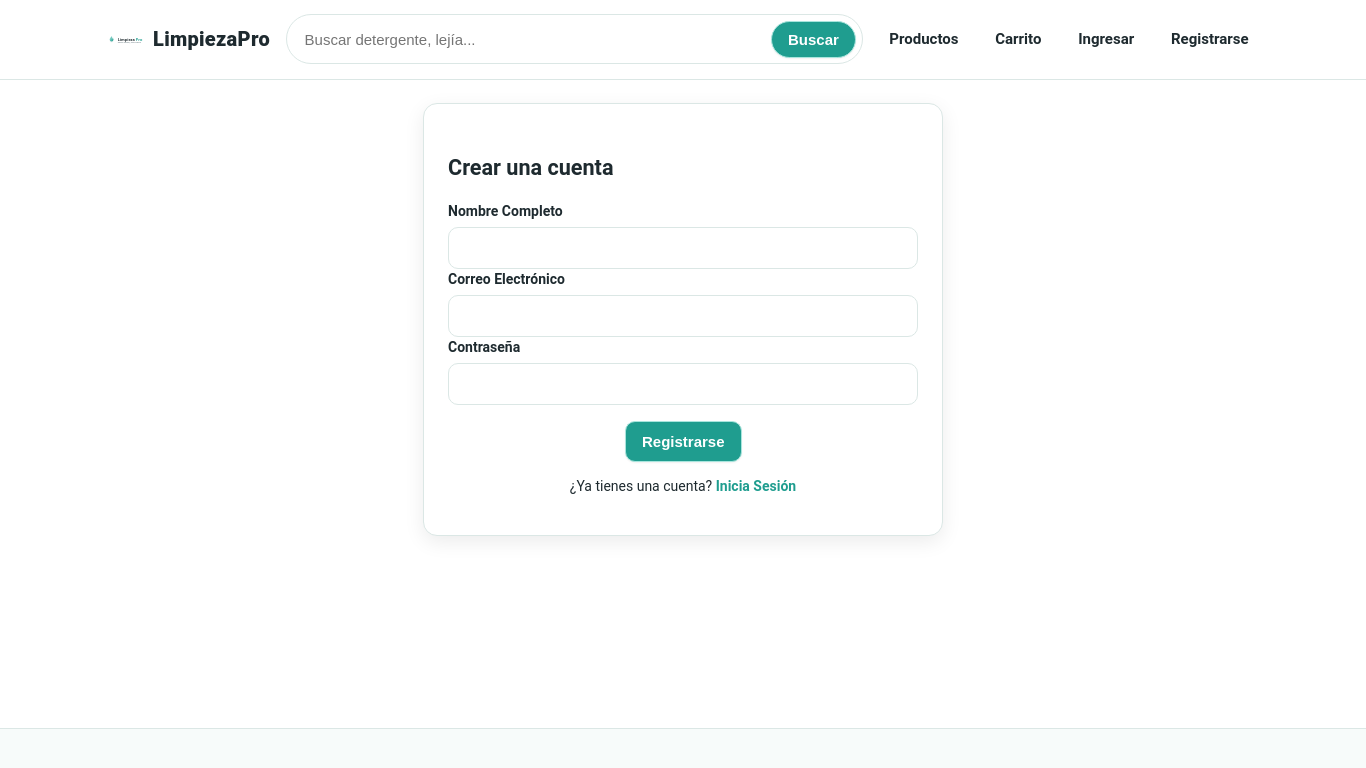
Scenario: Registro de clientes › muestra error si la contraseña es corta
This screenshot has width=1366, height=768.
Type "Juan Pérez" into the field with id "nombre".
click(683, 248); type("Juan Pérez")  # box [448,227,918,268]
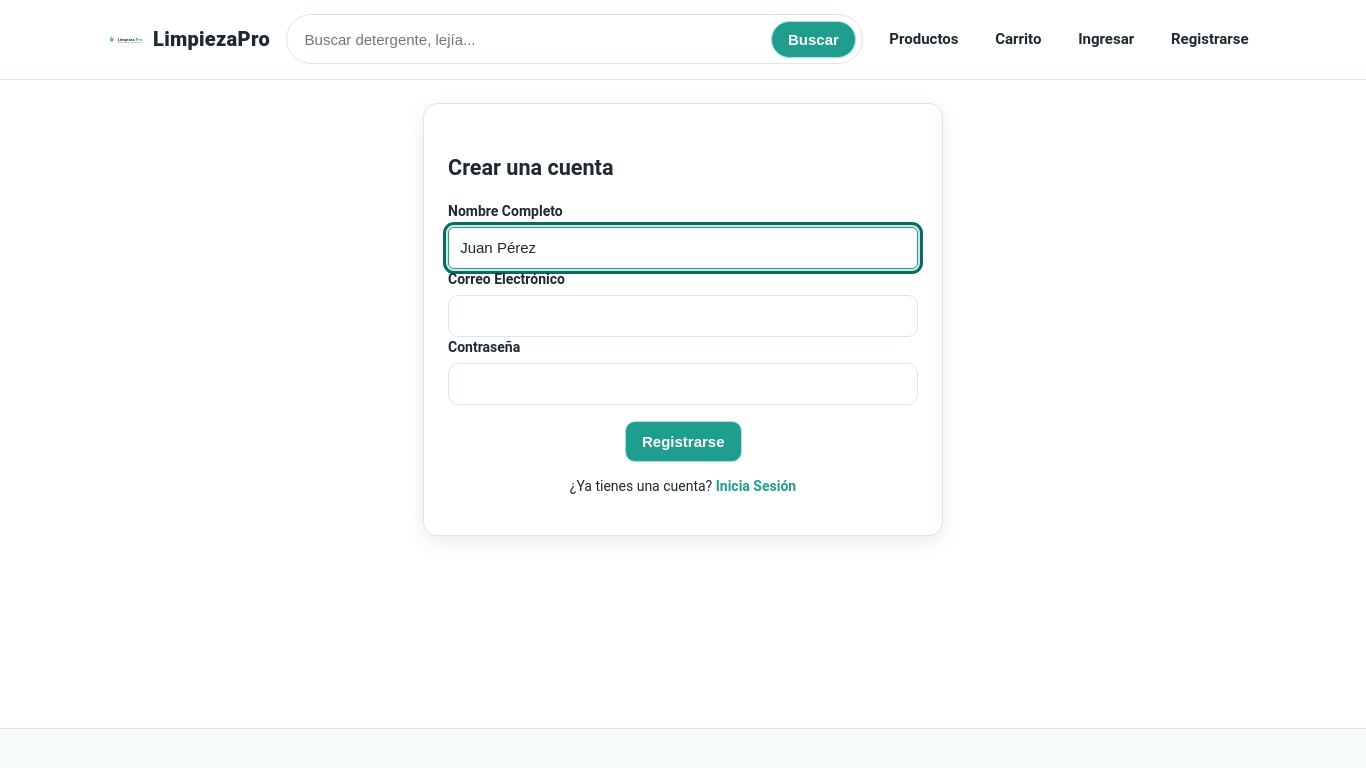
Type "juan@example.com" into the field with id "email".
click(683, 316); type("juan@example.com")  # box [448,295,918,336]
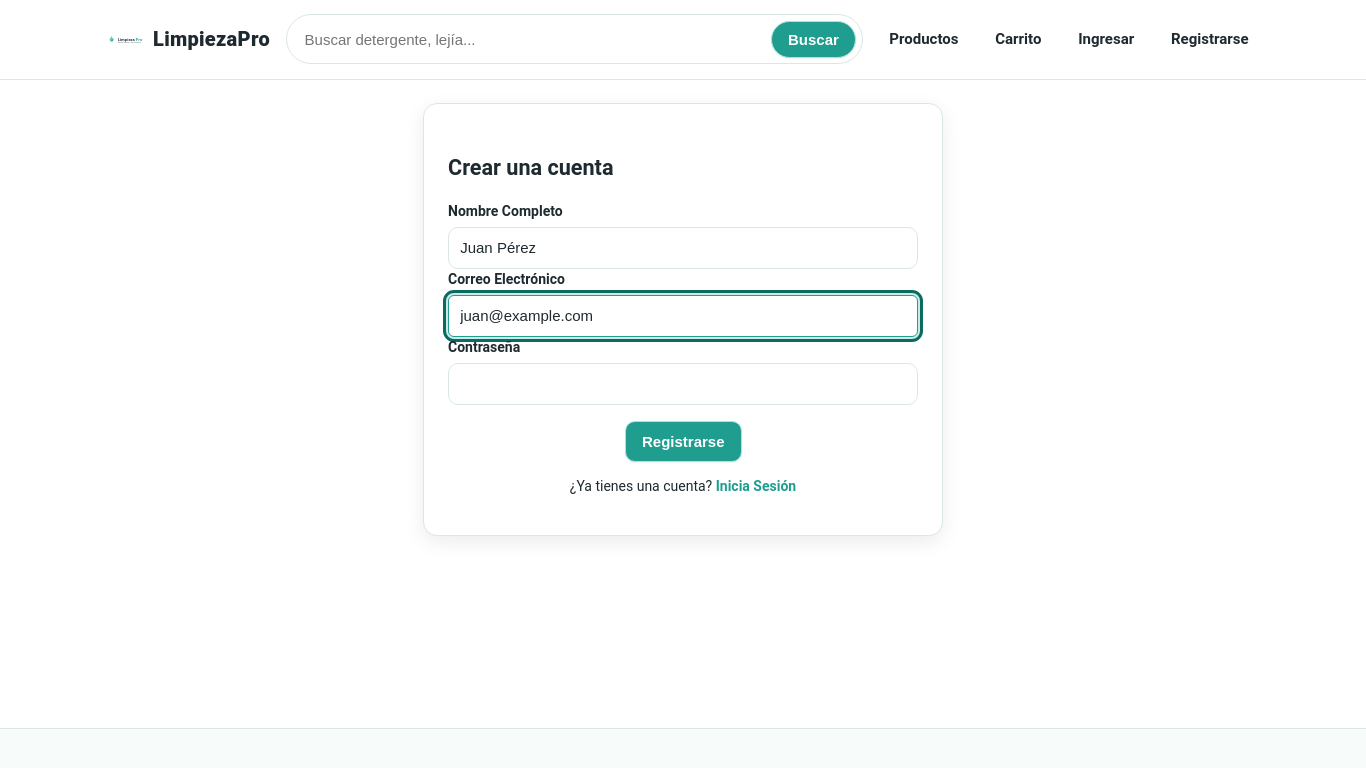
Type "abc" into the password field labelled "Contraseña".
click(683, 384); type("abc")  # box [448,363,918,404]
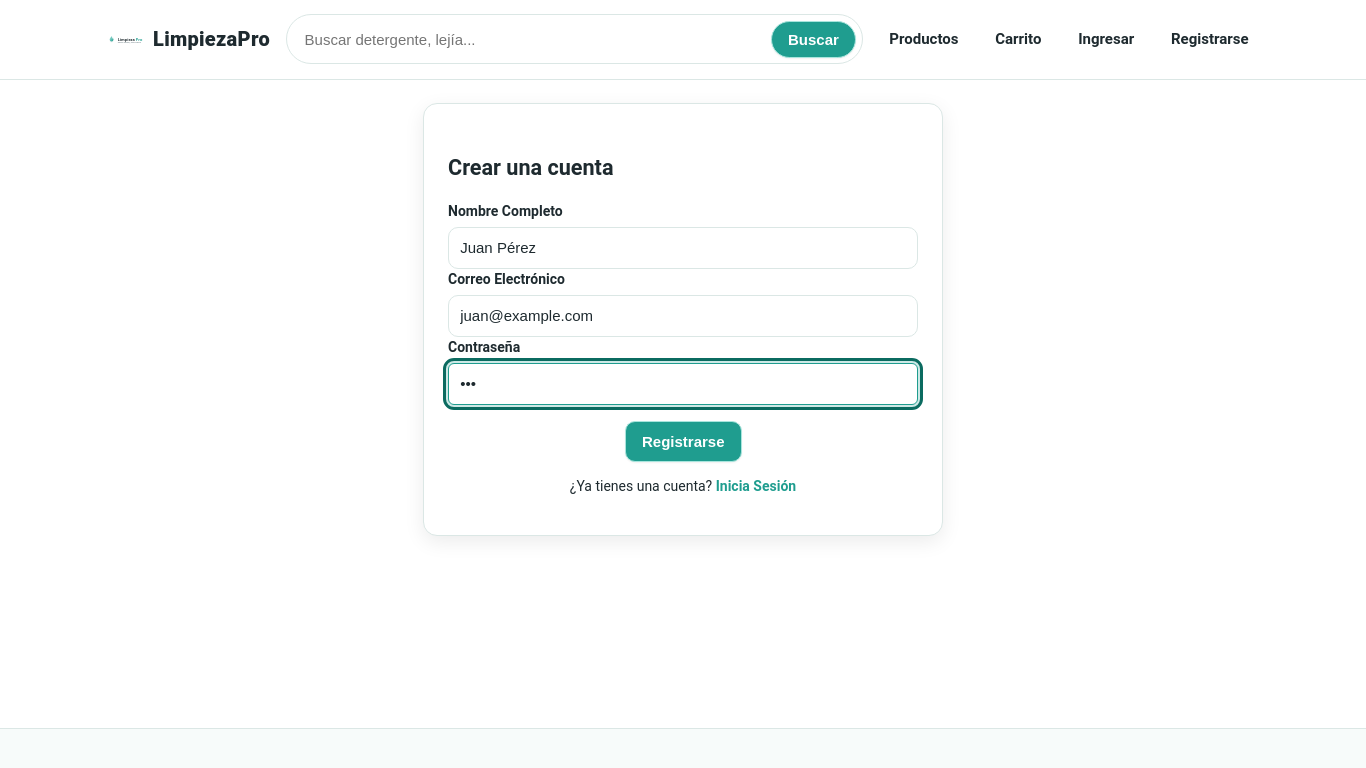
Click the button "Registrarse".
click(684, 442)  # box [625,421,742,462]
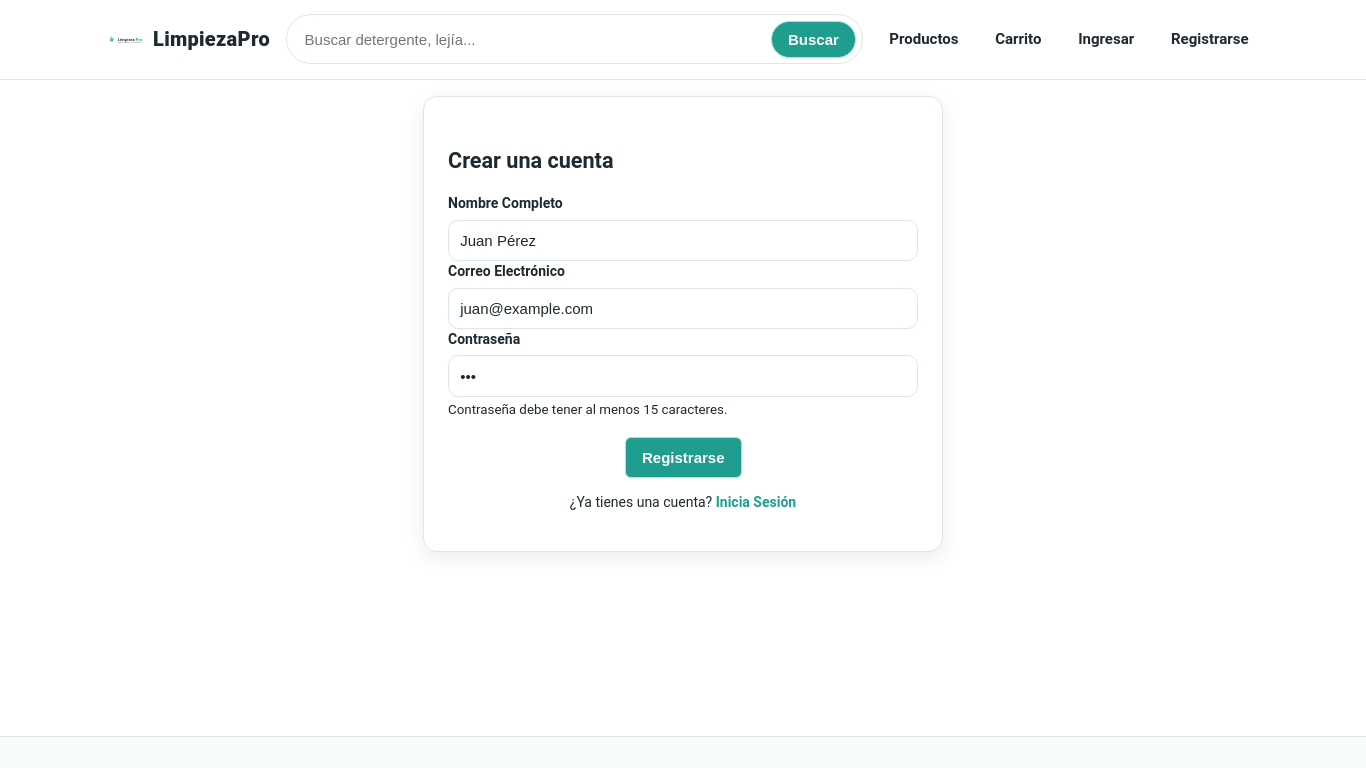
Expected: the text "Contraseña debe tener al menos 15 caracteres." is shown, [448,402,728,417]
